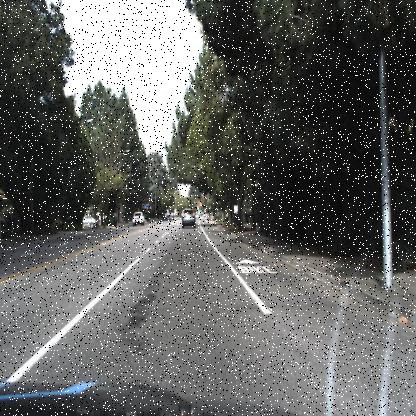car: (180, 208, 198, 232), (80, 213, 96, 231), (131, 209, 145, 229)
